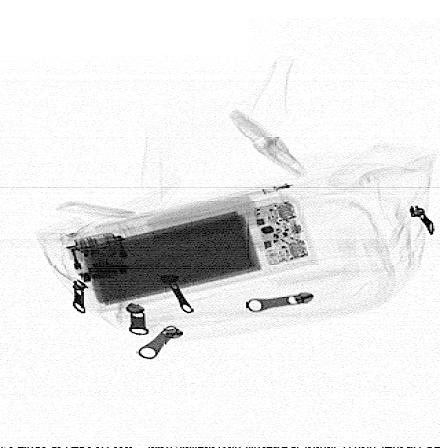Powerbank: (70, 195, 318, 312)
